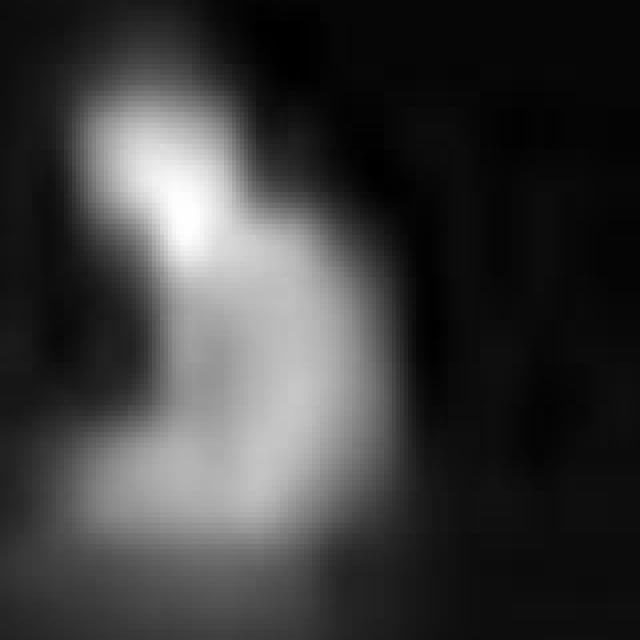person: (36, 14, 397, 554)
